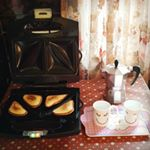cups: (90, 97, 119, 130), (122, 98, 150, 128)
